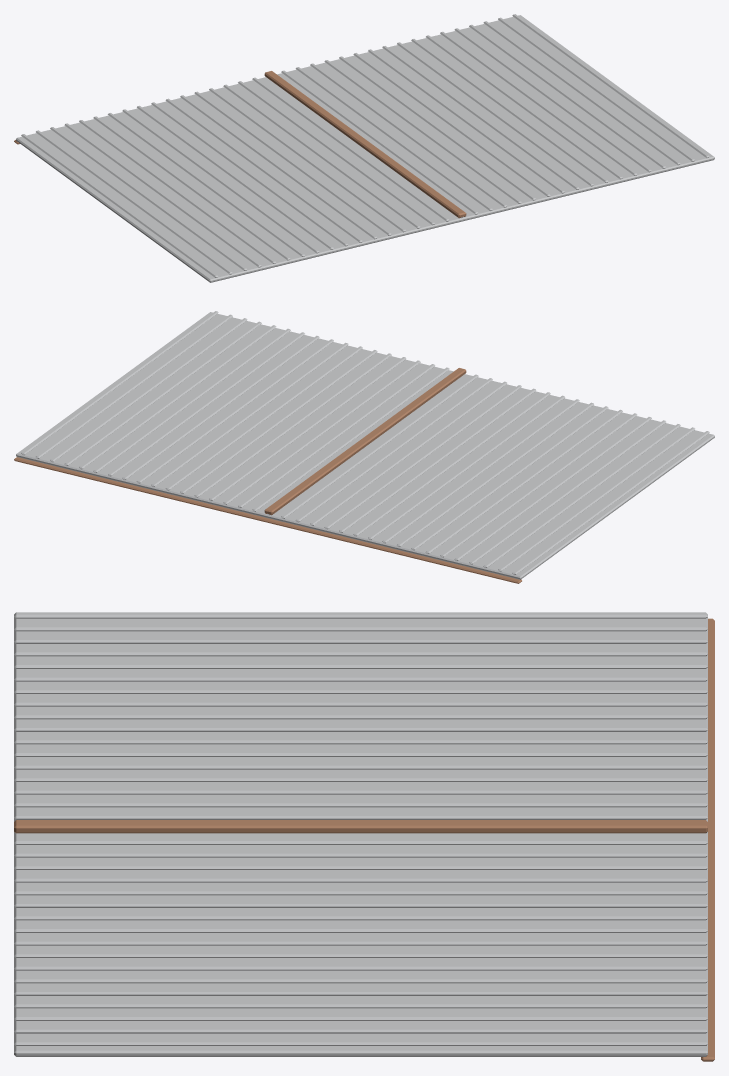
File: roof_sheet.glb
3 views of the same model, one above another, from view 1: azimuth 30°, elevation 25°; view 2: azimuth 150°, elevation 25°; view 3: azimuth 270°, elevation 25° (orthographic). The views are drawn at different scales.
Visible parts, largest first — view 1: roof_sheet; view 2: roof_sheet; view 3: roof_sheet.
Part boxes in pixels (left/top/right/bottom): roof_sheet: left=14, top=14, right=714, bottom=282; roof_sheet: left=14, top=311, right=714, bottom=583; roof_sheet: left=14, top=612, right=714, bottom=1061.
Size of the model in its own units: 6 by 0.125 by 4.04.
